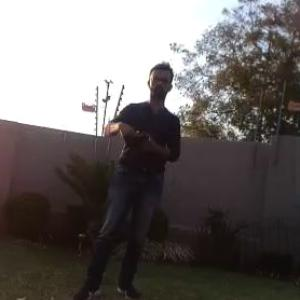follow: (69, 57, 187, 299)
